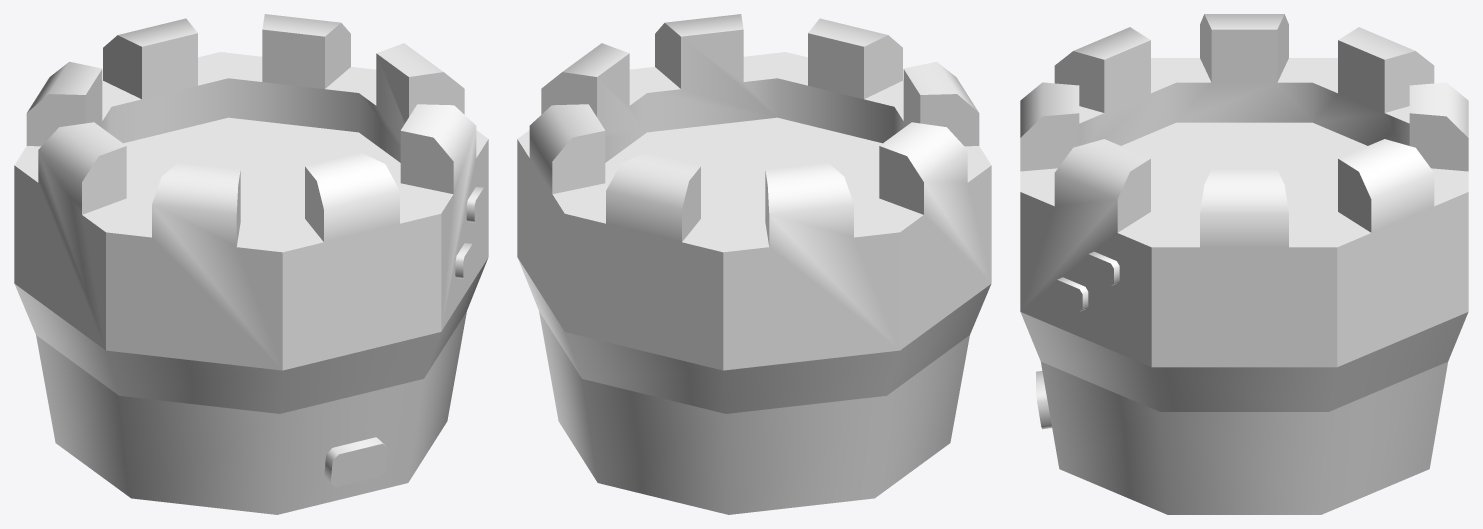
File: tower-top.glb
The picture shows the model from 3 angles, left to right: view 1: azimuth 30°, elevation 25°; view 2: azimuth 150°, elevation 25°; view 3: azimuth 270°, elevation 25°; orthographic projection.
Visible parts, largest first — view 1: tower-top; view 2: tower-top; view 3: tower-top.
Boxes of the visible parts, x1,y1,x2,y2 form: tower-top: [14, 14, 488, 514]; tower-top: [517, 14, 991, 514]; tower-top: [1020, 14, 1468, 514].
Bounding box in the file's own units: 3.35 × 2.79 × 3.35.
Materials: 1 (1 with a texture image).
